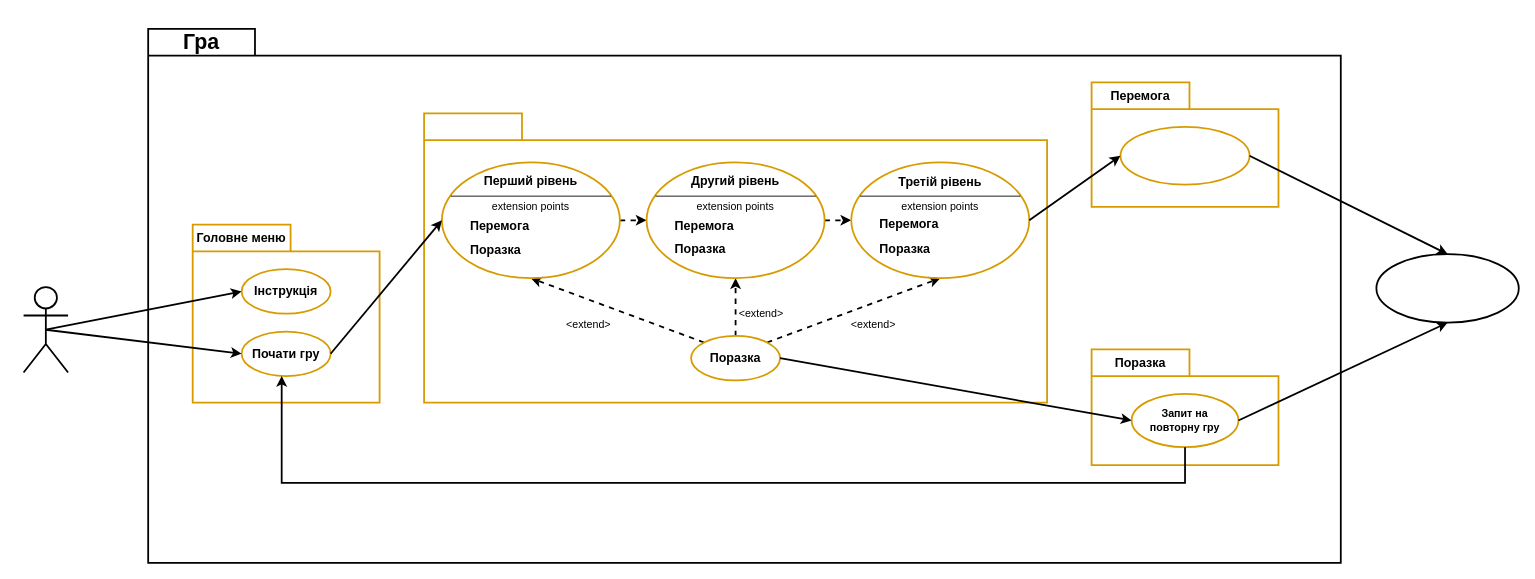
Image size: 1535x579. Some labels were removed from this diagram. The shapes that lost their labels are listed below. From the top down, each one's box as (x1, y1, x2, y2) in pixels, then its label:
(1119, 125, 1250, 185): Вивід інфи про те що ти молодець
(423, 112, 1048, 403): Процес гри
(1375, 253, 1519, 323): Вихід з гри
(22, 286, 69, 373): Користувач
